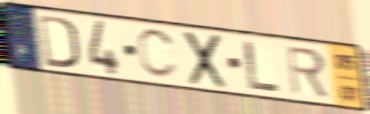4: (87, 18, 122, 79)
C: (136, 28, 179, 82)
D: (36, 12, 82, 71)
L: (242, 39, 282, 94)
R: (284, 44, 331, 100)
X: (183, 29, 229, 91)
